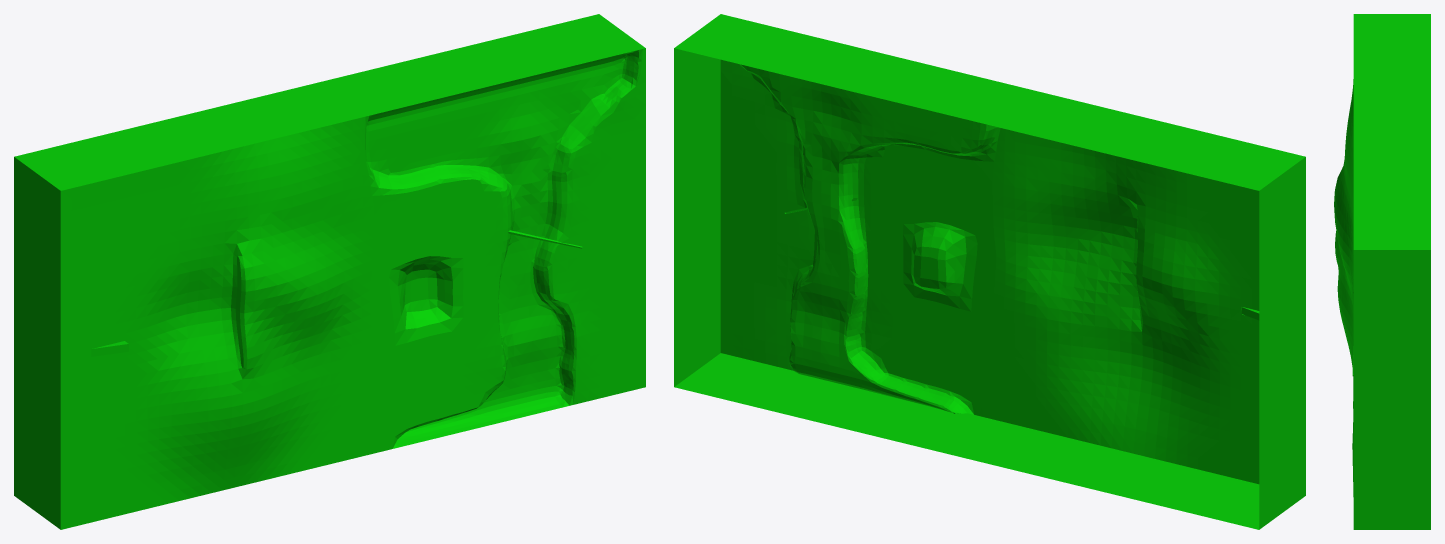
File: debug_0000_dec.obj
3 views of the same model, side by side, from view 1: azimuth 30°, elevation 25°; view 2: azimuth 150°, elevation 25°; view 3: azimuth 270°, elevation 25° (orthographic). The views are drawn at different scales.
Visible parts, largest first — view 1: level_1.024_Cube.902; view 2: level_1.024_Cube.902; view 3: level_1.024_Cube.902.
Boxes of the visible parts, x1=… form: level_1.024_Cube.902: x1=14, y1=14, x2=645, y2=529; level_1.024_Cube.902: x1=674, y1=14, x2=1305, y2=529; level_1.024_Cube.902: x1=1334, y1=14, x2=1430, y2=529.
Bounding box in the file's own units: 2890 × 1600 × 502.
